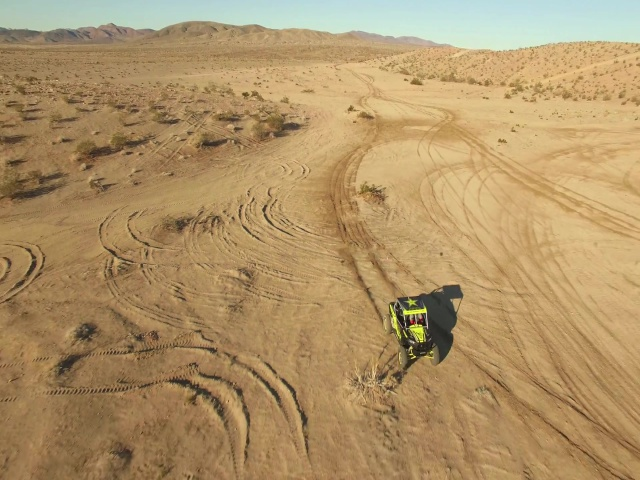vehicle: (381, 296, 441, 367)
